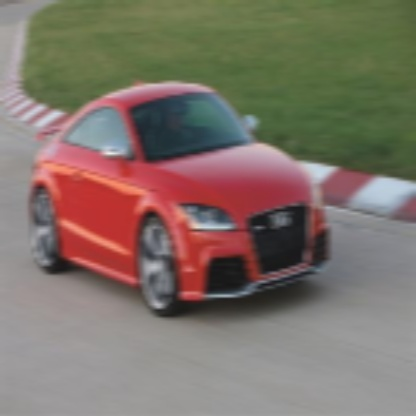Vehicle: (29, 80, 331, 319)
